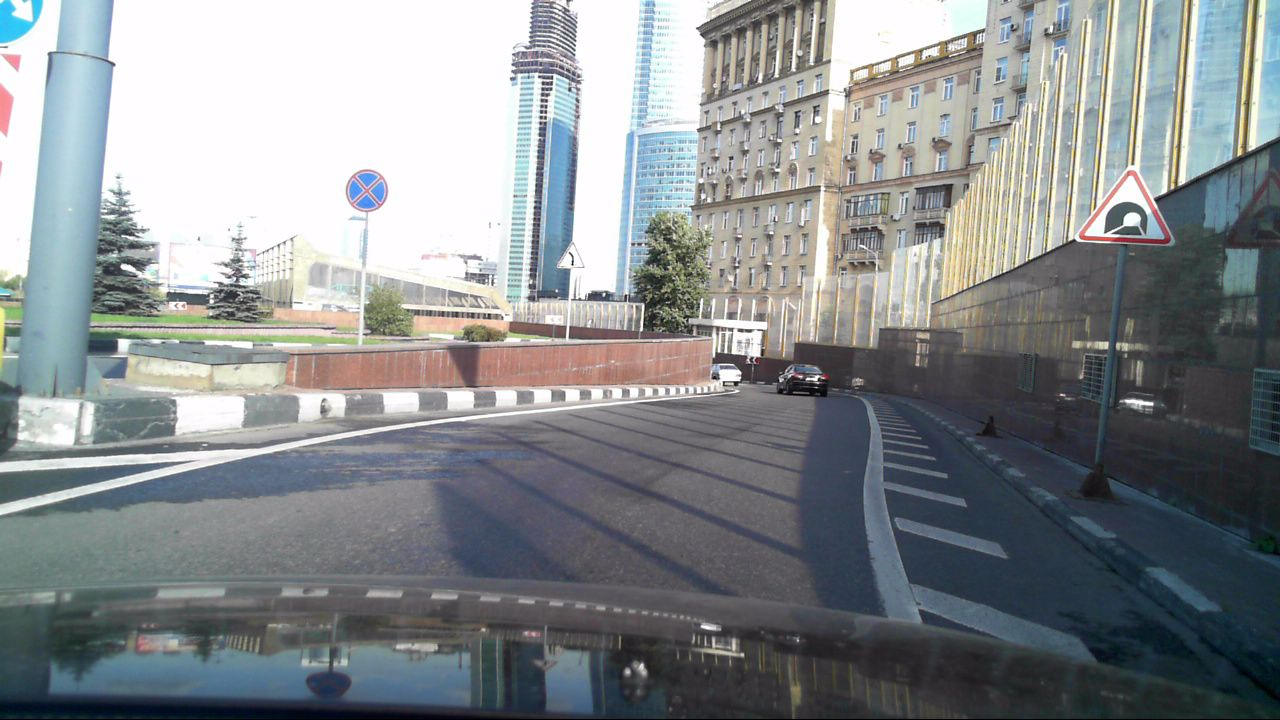No Parking: (344, 167, 391, 215)
